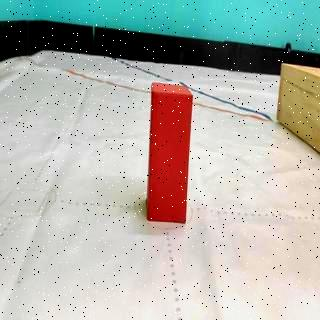redbox: (148, 82, 194, 225)
